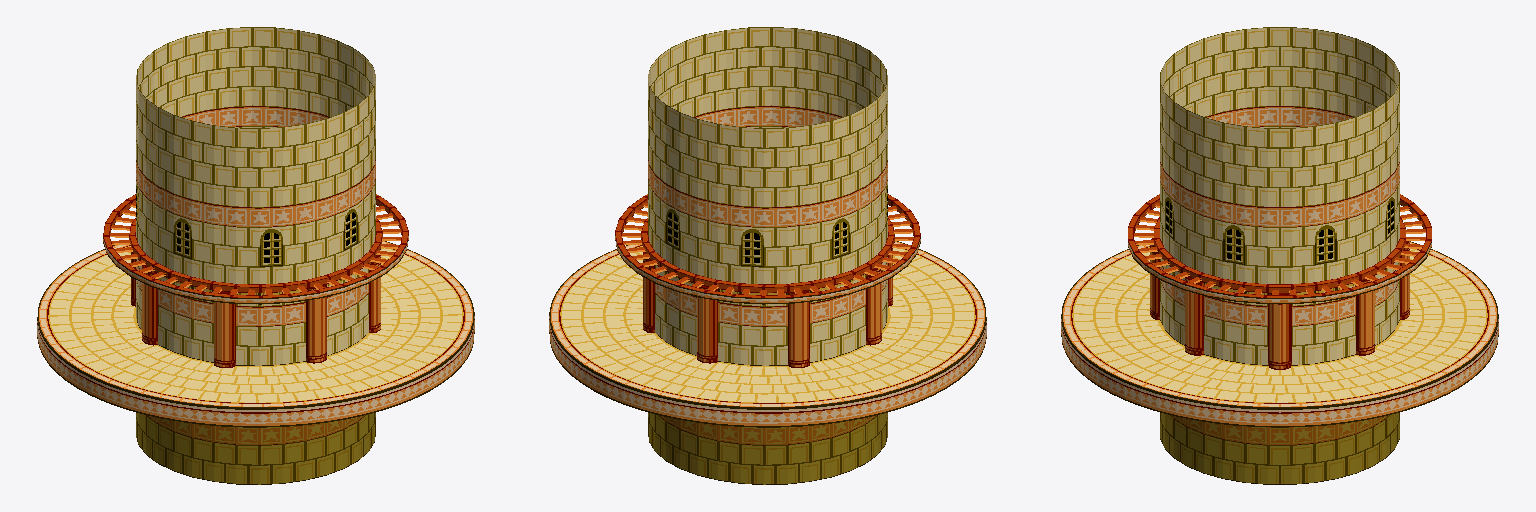
3 renders of one model, left to right at view 1: azimuth 30°, elevation 25°; view 2: azimuth 150°, elevation 25°; view 3: azimuth 270°, elevation 25°, orthographic.
Bounding box in the file's own units: 2000 × 1800 × 2000.
Materials: 10 (10 with a texture image).